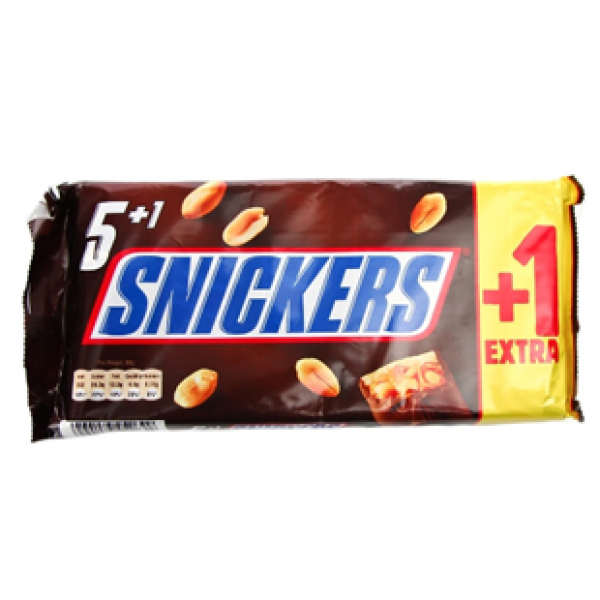snickers: (96, 255, 446, 334)
